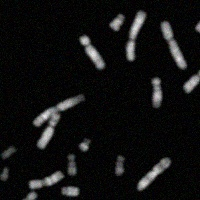chromosome: (34, 93, 86, 126), (135, 156, 172, 191), (161, 22, 187, 70), (125, 10, 146, 62), (79, 34, 105, 71), (36, 112, 60, 147), (28, 170, 63, 189), (182, 67, 200, 94), (108, 12, 125, 33), (151, 77, 162, 109), (0, 144, 17, 159), (114, 154, 126, 175), (60, 185, 79, 197), (67, 153, 77, 174), (14, 191, 37, 200), (78, 136, 90, 151), (0, 164, 10, 181), (195, 8, 200, 33)
